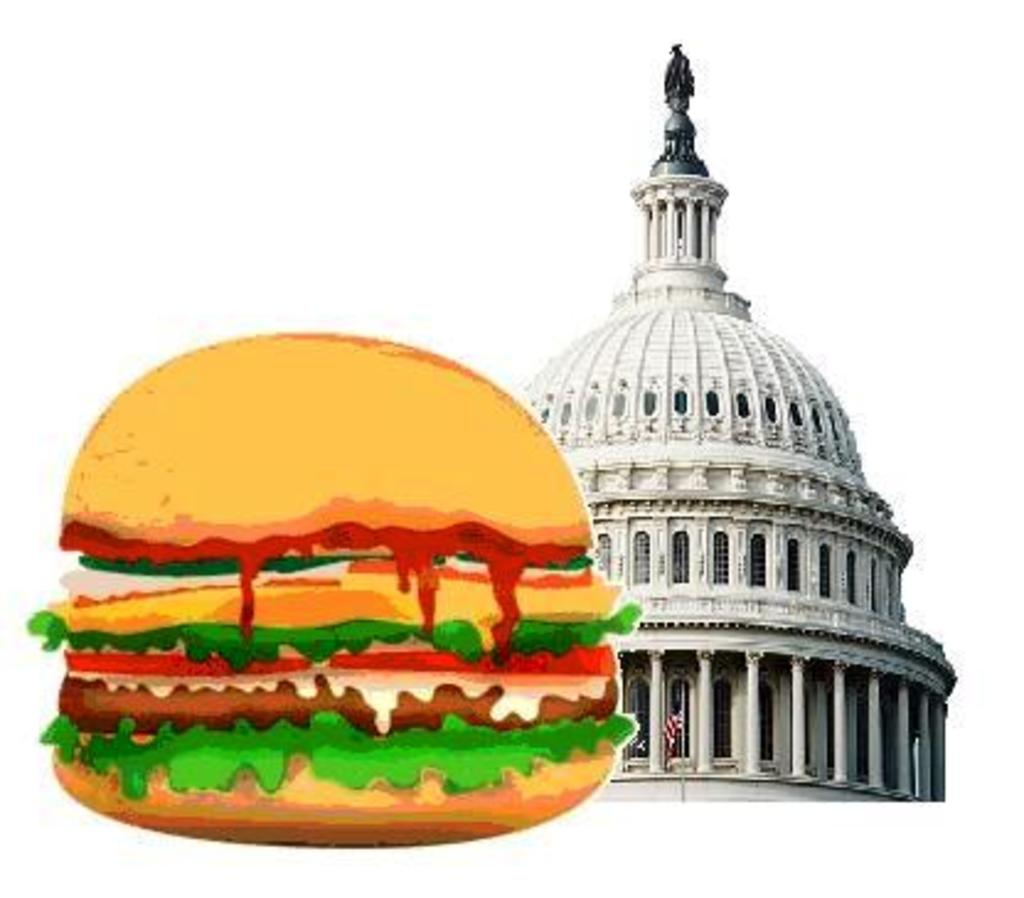Hamburger: (22, 329, 644, 851)
